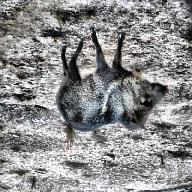boar: (52, 34, 177, 151)
